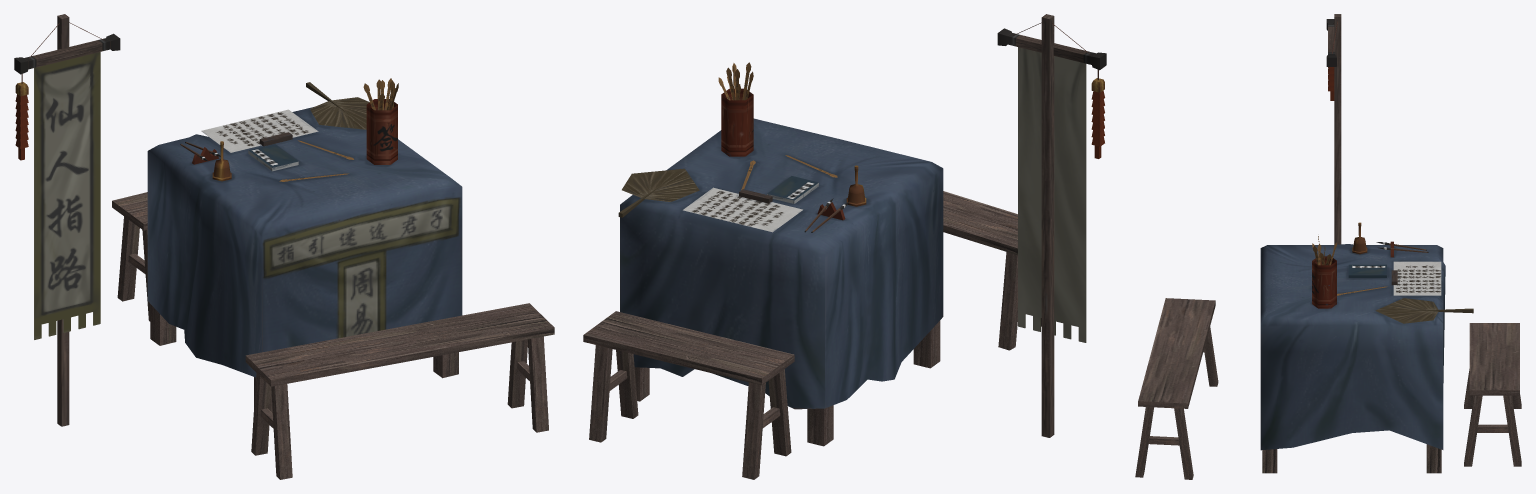
File: suanming.FBX
3 views of the same model, side by side, from view 1: azimuth 30°, elevation 25°; view 2: azimuth 150°, elevation 25°; view 3: azimuth 270°, elevation 25° (orthographic). The views are drawn at different scales.
Parts seen in each view (by area): view 1: 对象019; view 2: 对象019; view 3: 对象019.
Boxes of the visible parts, x1,y1,x2,y2 form: 对象019: (14, 14, 554, 479); 对象019: (583, 14, 1106, 479); 对象019: (1135, 14, 1521, 479).
Bounding box in the file's own units: 81.61 × 75.44 × 81.75.
